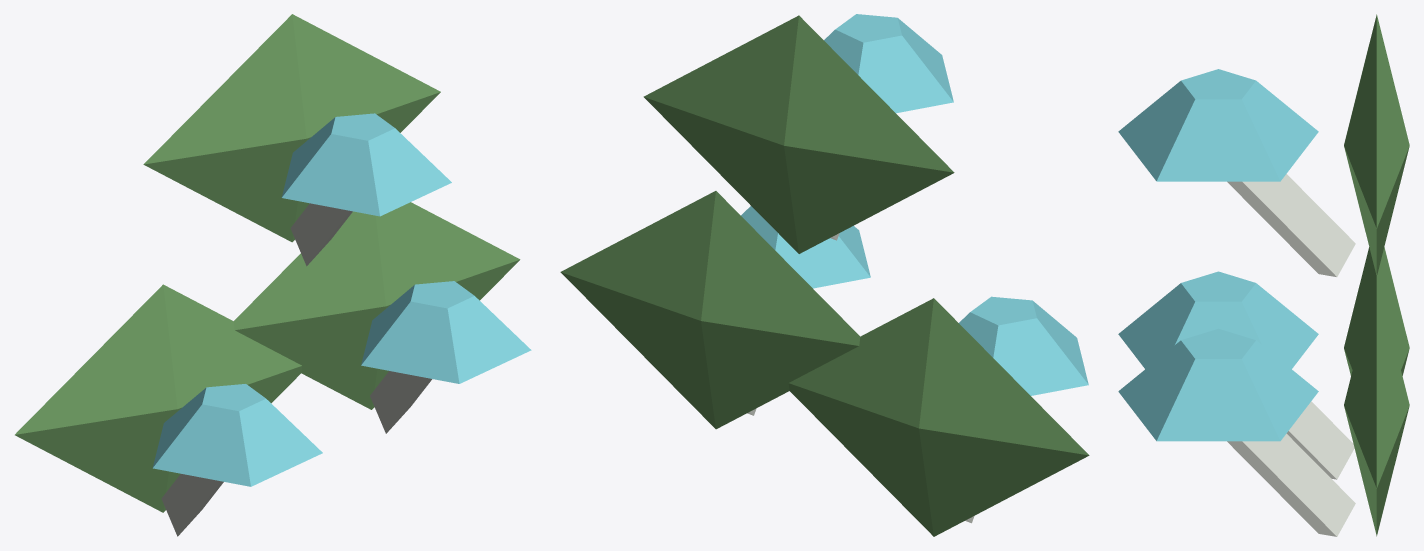
Rendered from Marsh_Accent.fbx.
The picture shows the model from 3 angles, left to right: view 1: azimuth 30°, elevation 25°; view 2: azimuth 150°, elevation 25°; view 3: azimuth 270°, elevation 25°; orthographic projection. The views are drawn at different scales.
Visible parts, largest first — view 1: Marsh_Accent; view 2: Marsh_Accent; view 3: Marsh_Accent.
Part boxes in pixels (<box>): Marsh_Accent: <box>15,14,531,536</box>; Marsh_Accent: <box>560,14,1089,536</box>; Marsh_Accent: <box>1118,14,1409,536</box>.
Size of the model in its own units: 51 by 45.27 by 22.11.
